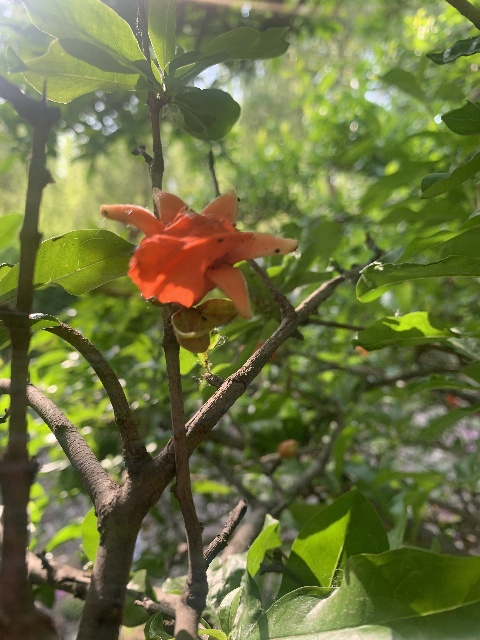flower: (100, 188, 299, 320)
